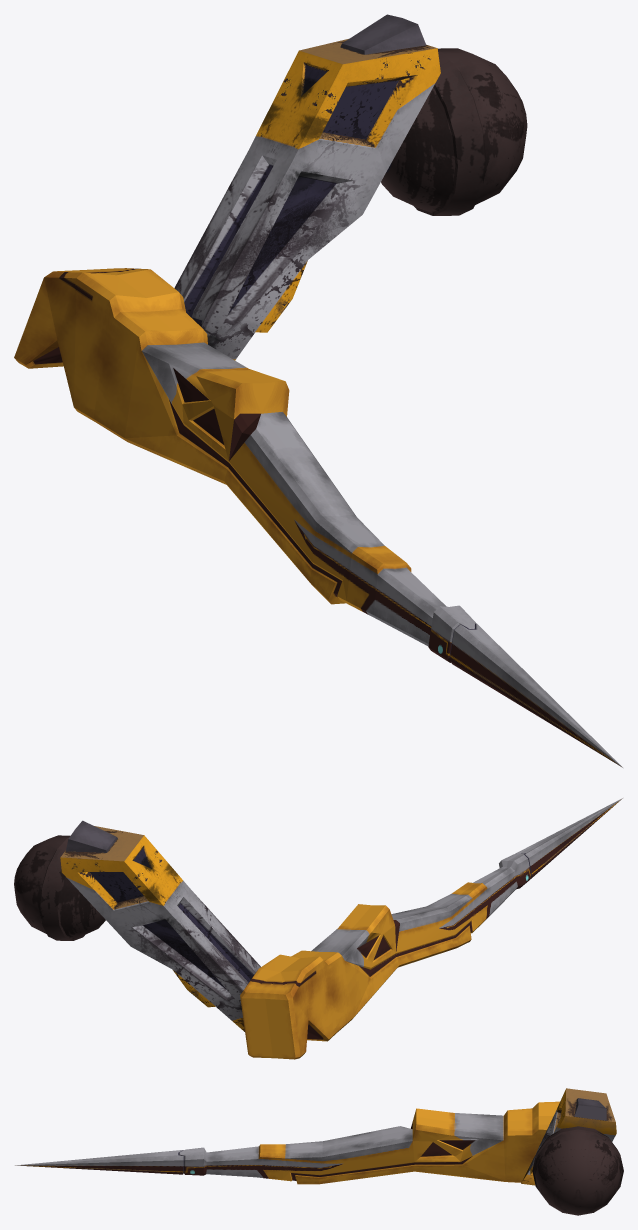
File: Chariot03_zuizi02_huai.FBX
The picture shows the model from 3 angles, top to bottom: view 1: azimuth 30°, elevation 25°; view 2: azimuth 150°, elevation 25°; view 3: azimuth 270°, elevation 25°; orthographic projection. The views are drawn at different scales.
Parts seen in each view (by area): view 1: Chariot03_zuizi01_huai, Chariot03_zuizi_sunhuai02; view 2: Chariot03_zuizi01_huai, Chariot03_zuizi_sunhuai02; view 3: Chariot03_zuizi01_huai, Chariot03_zuizi_sunhuai02.
Boxes of the visible parts, x1,y1,x2,y2 form: Chariot03_zuizi01_huai: [14, 14, 527, 645]; Chariot03_zuizi_sunhuai02: [428, 605, 622, 767]; Chariot03_zuizi01_huai: [14, 820, 517, 1059]; Chariot03_zuizi_sunhuai02: [499, 798, 622, 889]; Chariot03_zuizi01_huai: [206, 1088, 623, 1215]; Chariot03_zuizi_sunhuai02: [15, 1147, 206, 1175].
Bounding box in the file's own units: 1.63 × 1 × 3.44.
